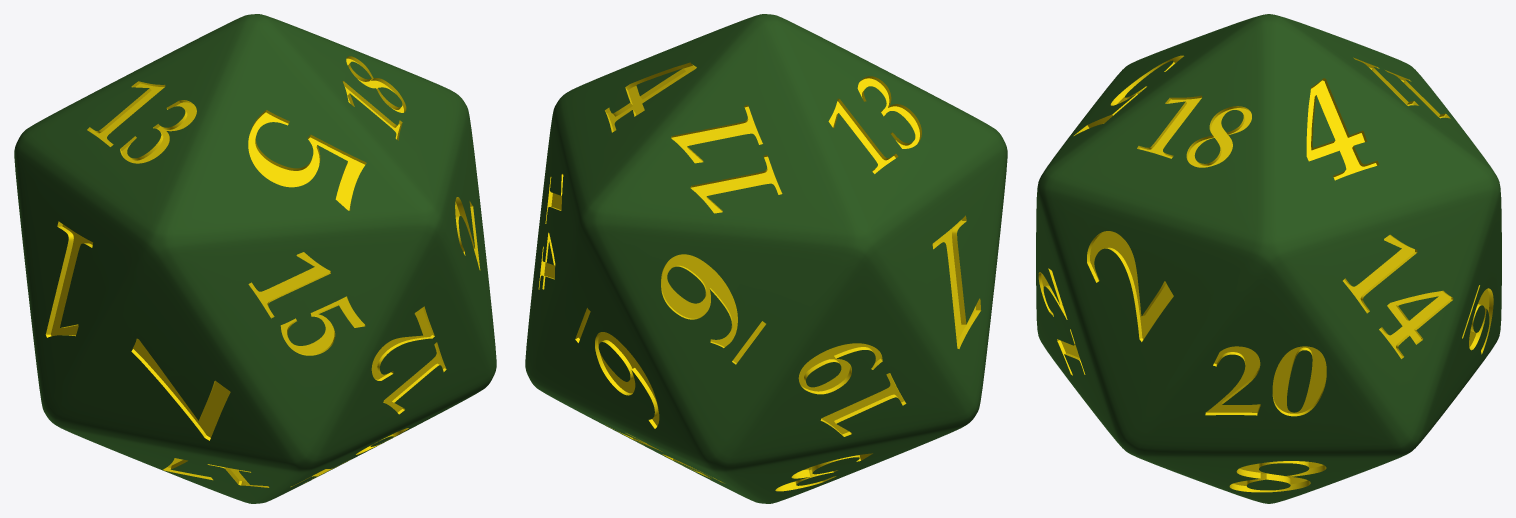
3 views of the same model, side by side, from view 1: azimuth 30°, elevation 25°; view 2: azimuth 150°, elevation 25°; view 3: azimuth 270°, elevation 25° (orthographic).
Visible parts, largest first — view 1: D20; view 2: D20; view 3: D20.
Part boxes in pixels (left/top/right/bottom): D20: left=14, top=14, right=496, bottom=503; D20: left=525, top=14, right=1007, bottom=503; D20: left=1036, top=14, right=1501, bottom=503.
Size of what is drawn, in the model's own units: 0.3081 by 0.339 by 0.2963.
